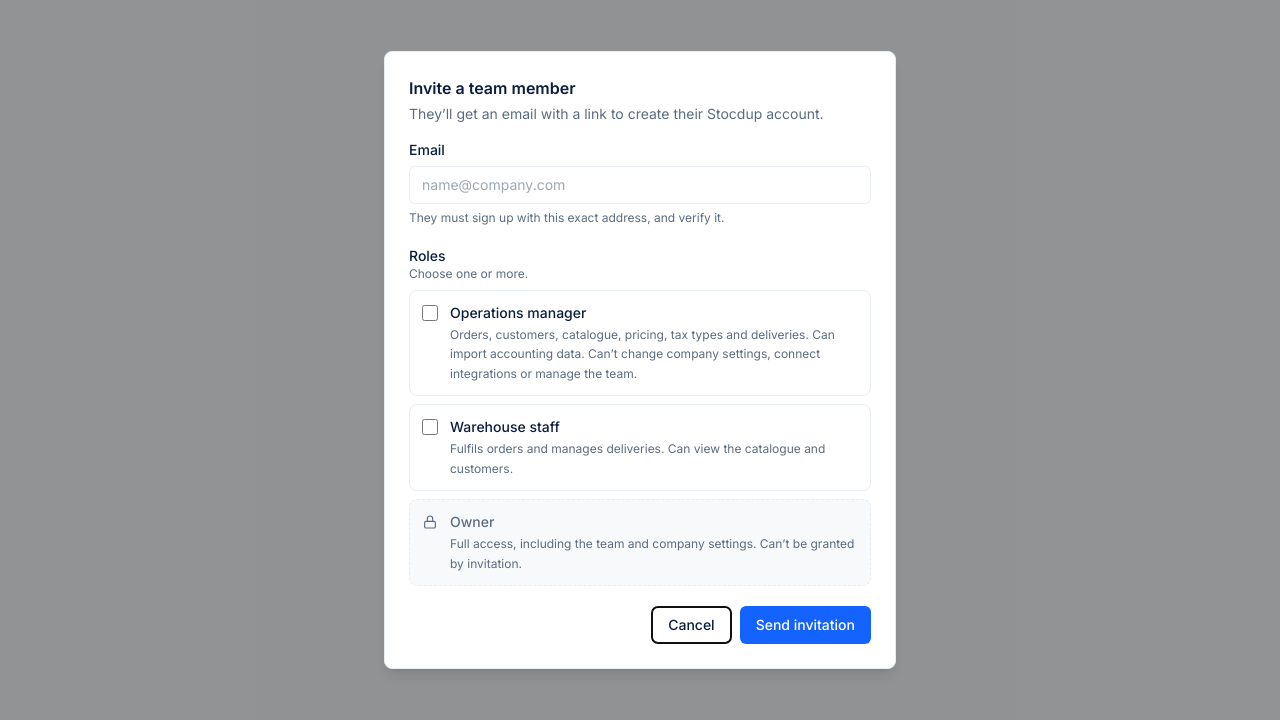
Test: InviteTeamMemberModal › rejects the email  before sending
Step 1. Click the checkbox labelled "Warehouse staff" → coordinates (430, 427), box [422,419,438,435]
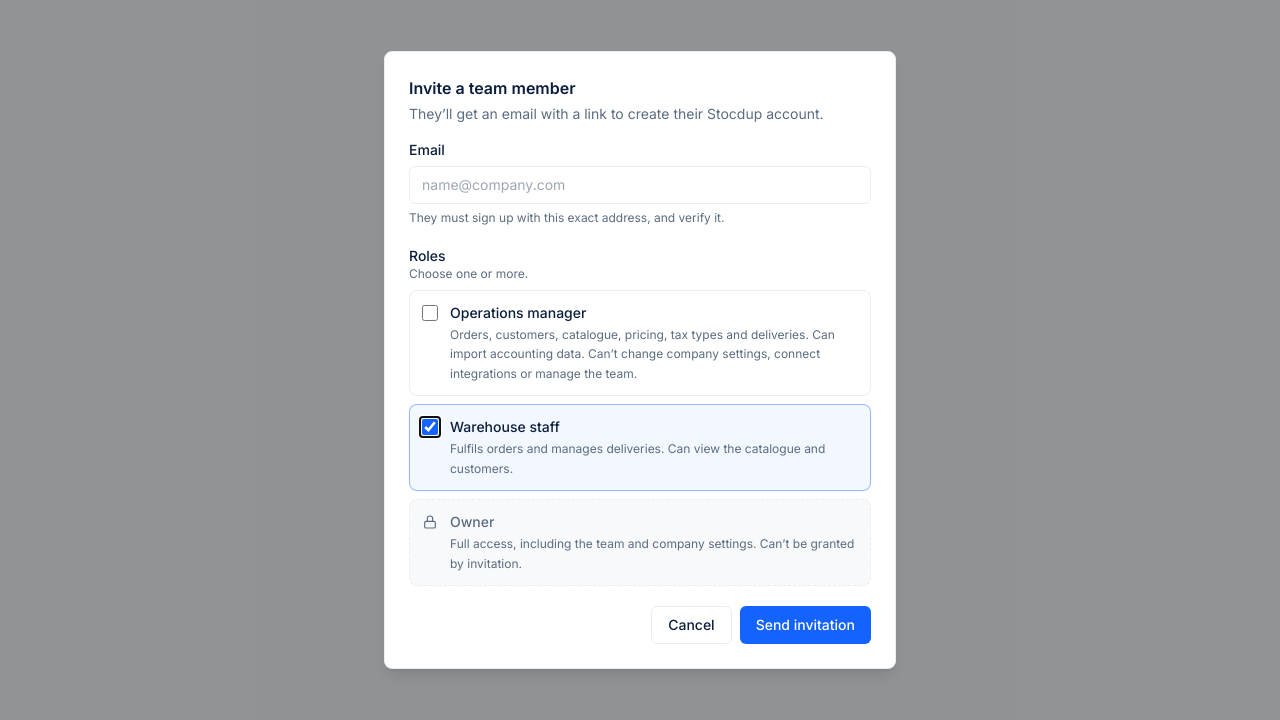
Step 2. Click the button "Send invitation" → coordinates (805, 625), box [740,606,871,644]
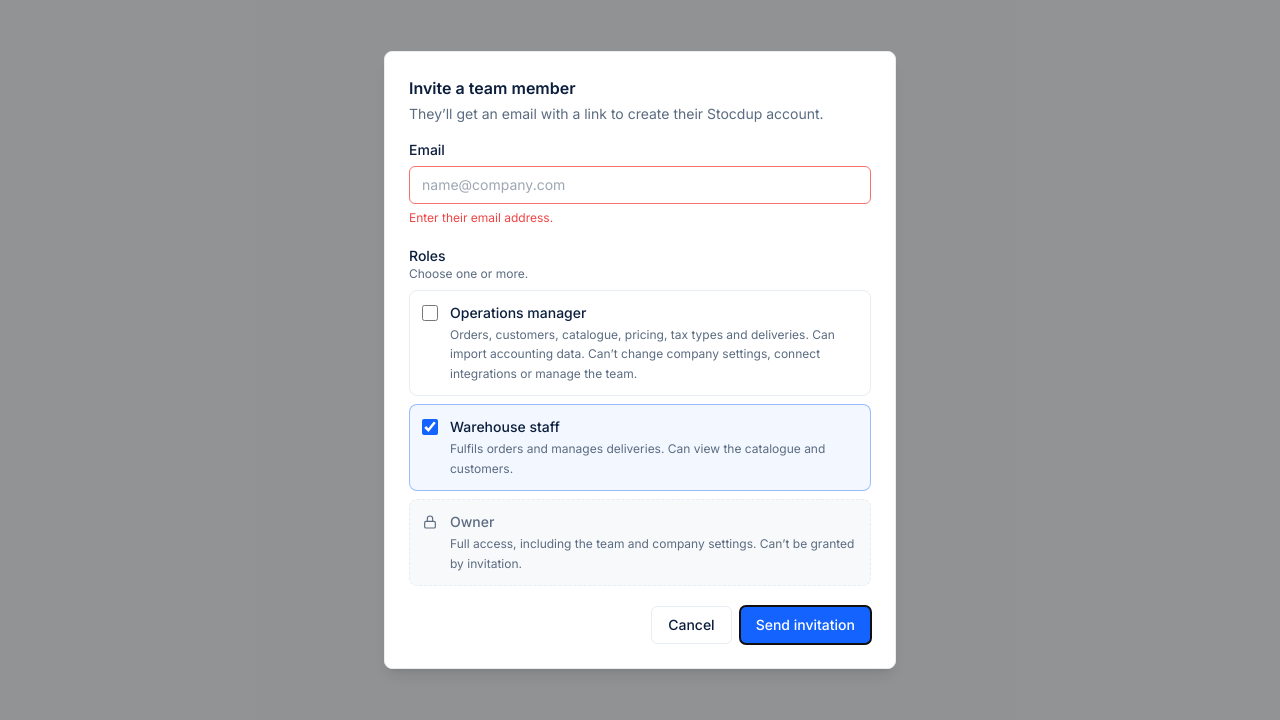
Check: the text "Enter their email address." is shown, box [409,210,553,225]
